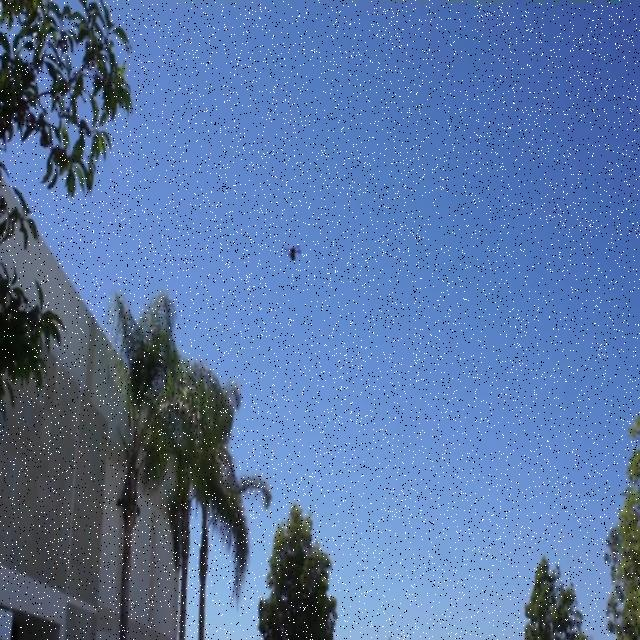UAV: (284, 244, 301, 262)
